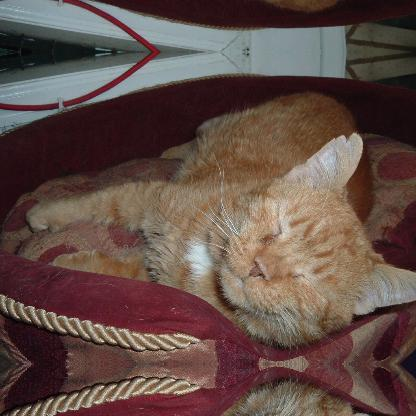Cat: (23, 91, 416, 351)
